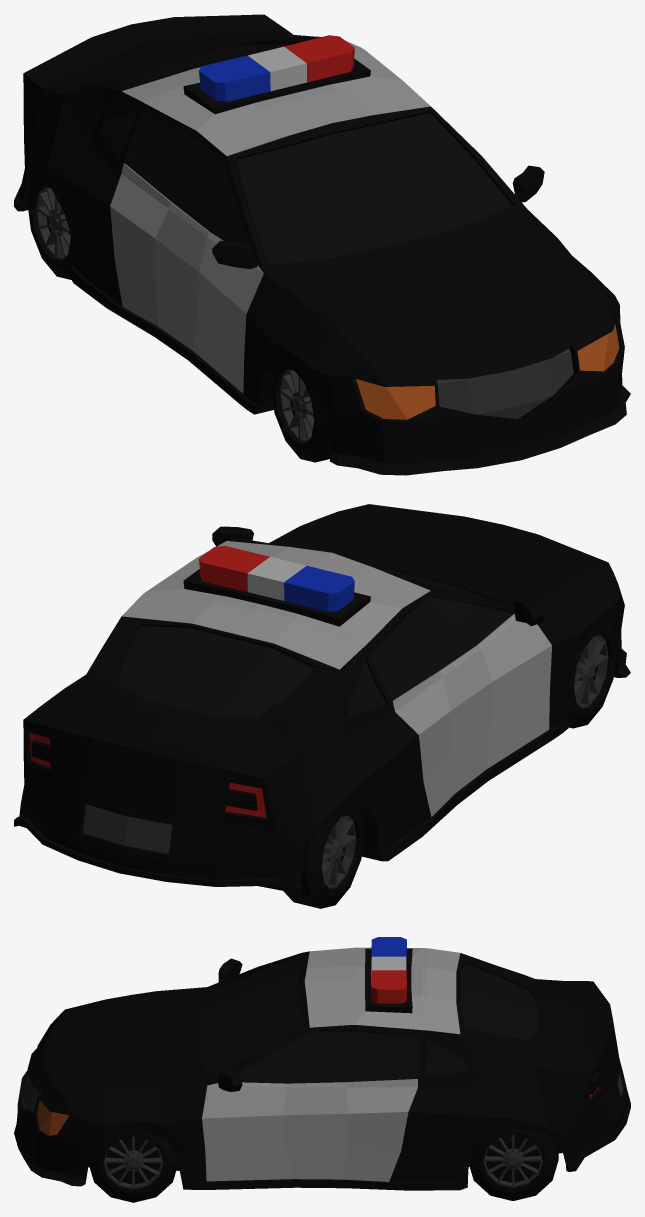
Rendered from police.glb.
The picture shows the model from 3 angles, top to bottom: view 1: azimuth 30°, elevation 25°; view 2: azimuth 150°, elevation 25°; view 3: azimuth 270°, elevation 25°; orthographic projection. The views are drawn at different scales.
Parts seen in each view (by area): view 1: Cop_Cube.001, Cop_FrontRightWheel_Cylinder.012, Cop_BackWheels_Cylinder.001; view 2: Cop_Cube.001, Cop_BackWheels_Cylinder.001, Cop_FrontRightWheel_Cylinder.012; view 3: Cop_Cube.001, Cop_BackWheels_Cylinder.001, Cop_FrontLeftWheel_Cylinder.011.
Part boxes in pixels (x1=…): Cop_Cube.001: x1=14, y1=14, x2=630, y2=475; Cop_FrontRightWheel_Cylinder.012: x1=270, y1=358, x2=331, y2=462; Cop_BackWheels_Cylinder.001: x1=27, y1=173, x2=73, y2=279; Cop_Cube.001: x1=14, y1=504, x2=630, y2=895; Cop_BackWheels_Cylinder.001: x1=283, y1=807, x2=364, y2=908; Cop_FrontRightWheel_Cylinder.012: x1=566, y1=627, x2=617, y2=728; Cop_Cube.001: x1=14, y1=937, x2=630, y2=1190; Cop_BackWheels_Cylinder.001: x1=469, y1=1129, x2=558, y2=1200; Cop_FrontLeftWheel_Cylinder.011: x1=88, y1=1131, x2=178, y2=1202.
Bounding box in the file's own units: 1.78 × 1.24 × 3.73.
